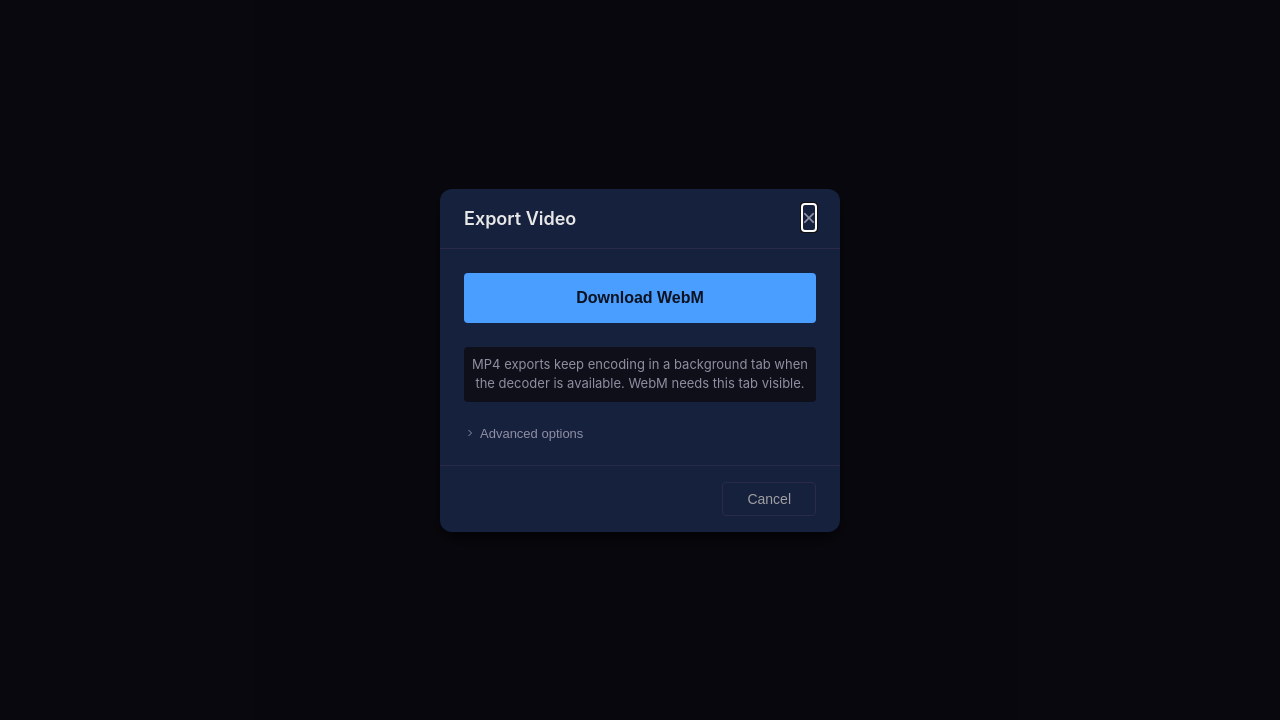
ExportDialog › rendering › keeps the format, quality and resolution controls behind the advanced toggle
Expected: the text "WebM (VP9 + Opus)" is not shown
Expected: the text "MP4 (H.264 + AAC)" is not shown
Click the button "Advanced options".
click(532, 433)  # box [464,426,816,440]
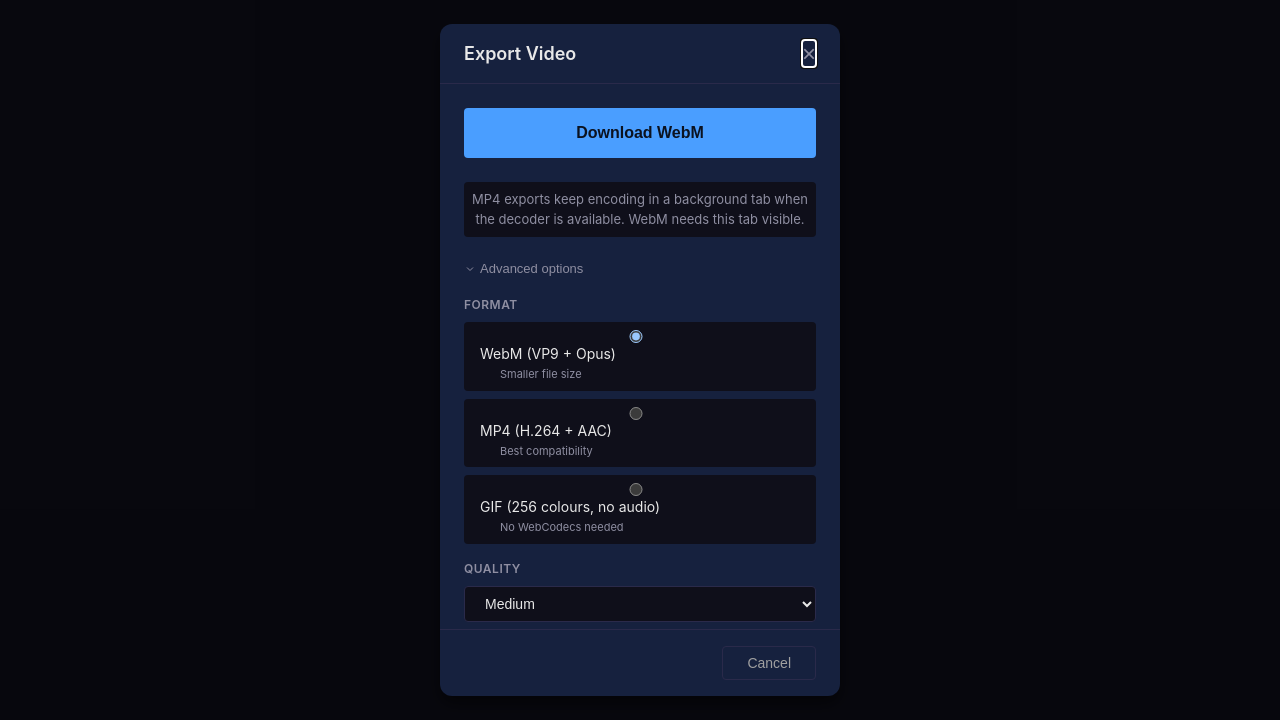
Result: the button "Advanced options" is expanded at [464,261,816,276]
Result: the text "WebM (VP9 + Opus)" is shown at [480,345,616,362]
Result: the text "MP4 (H.264 + AAC)" is shown at [480,422,612,438]
